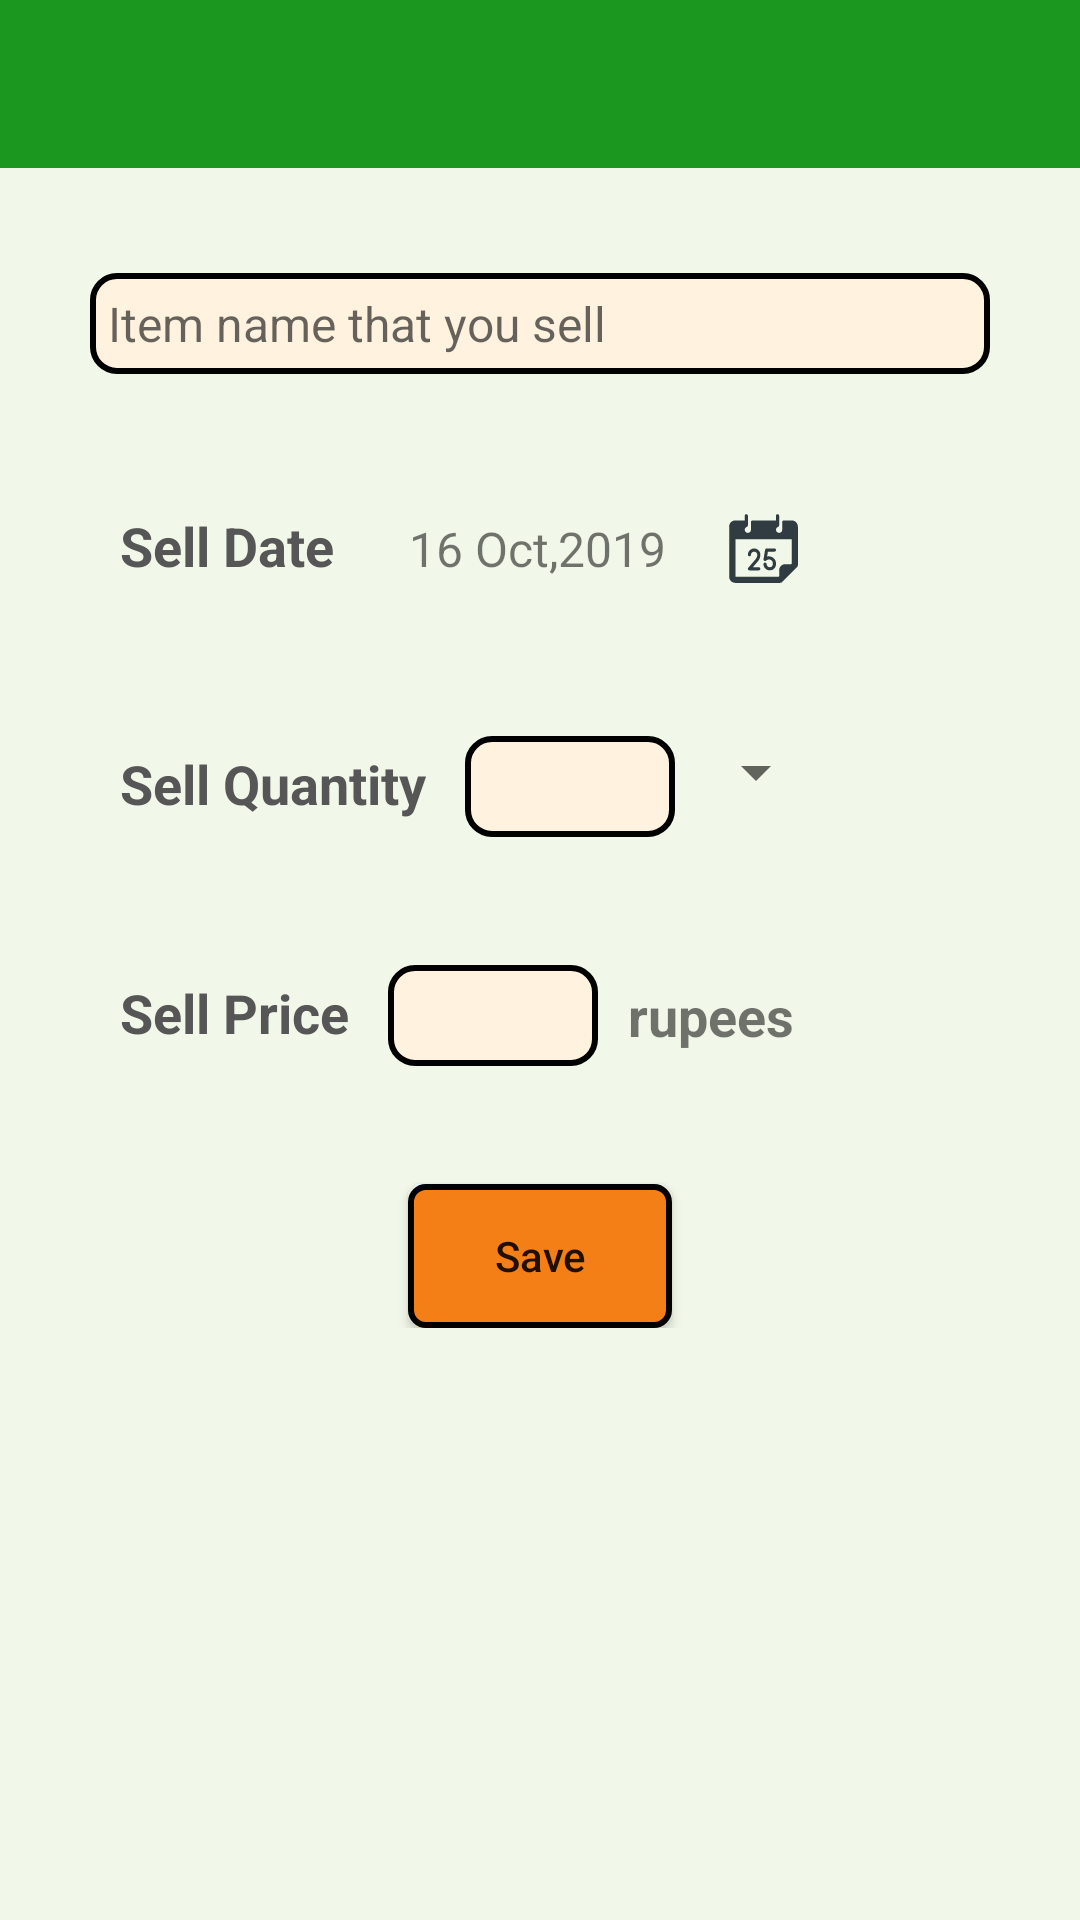

Icon bounding boxes for this 1080w x 1920h phone screenshot, format (x1, y1, x2, y2):
calendar: (729, 514, 798, 583)
